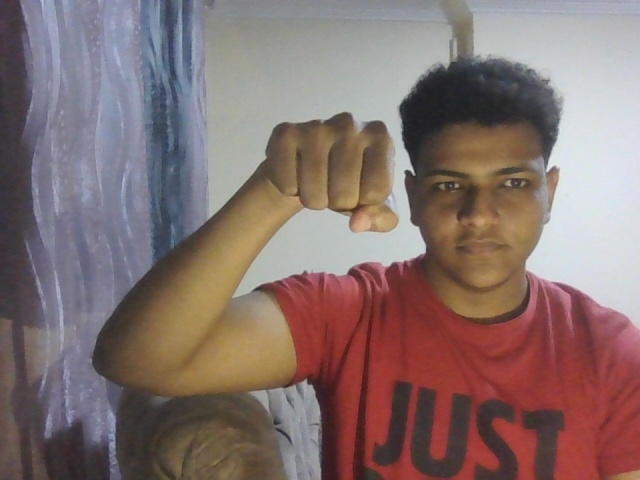yes: (241, 88, 407, 292)
